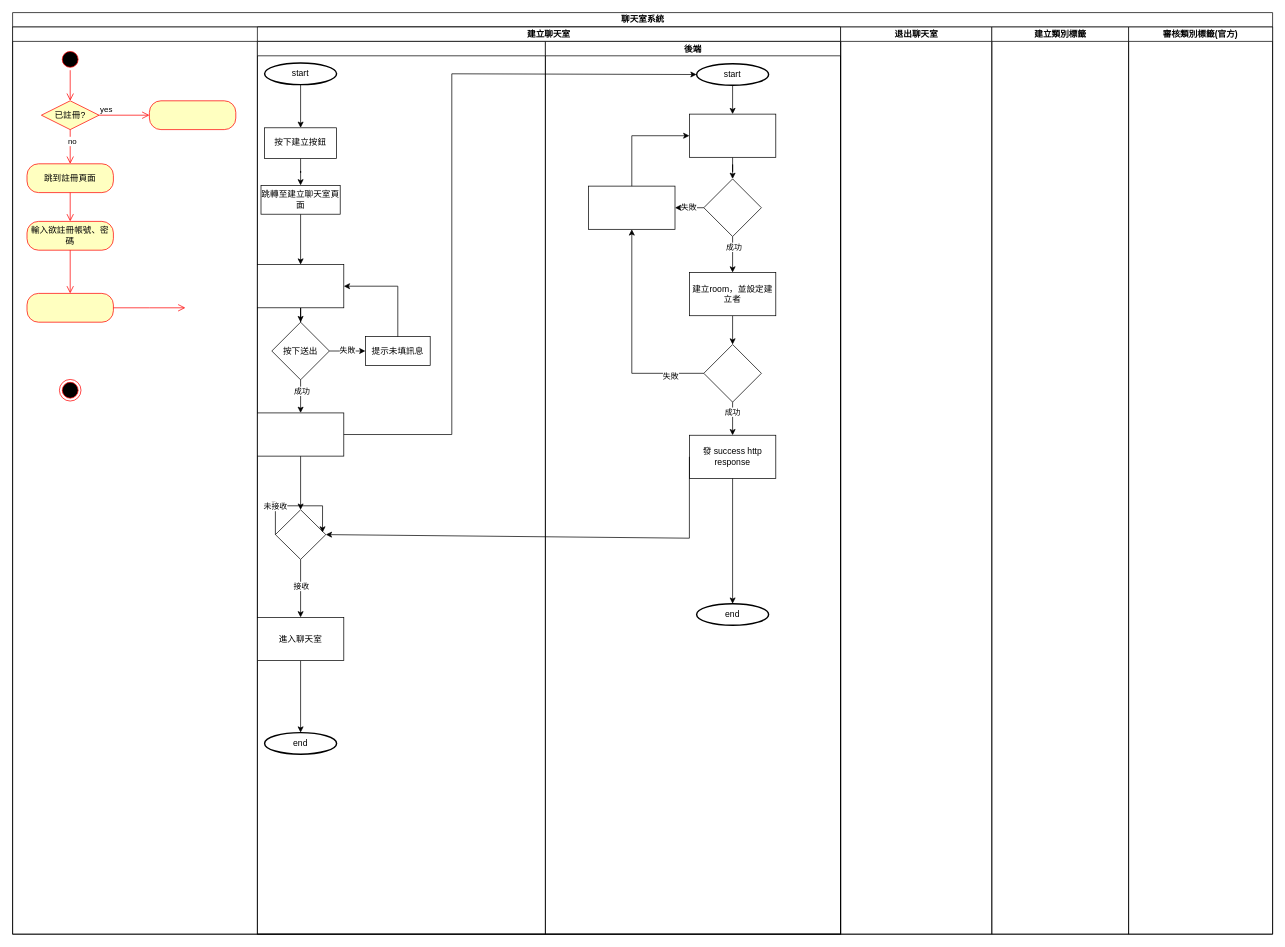
Image size: 1285x947. Some labels were removed from this diagram. The shapes that lost their labels are listed below. From the top down, each one's box as (x1, y1, x2, y2) in pixels, then its label:
(149, 100, 236, 130): 跳到登入頁面
(689, 113, 776, 157): server端等待http post
(588, 185, 675, 229): 發 error http response
(703, 178, 761, 237): 解析
(257, 264, 344, 308): 輸入聊天室名稱、選擇標籤
(26, 293, 113, 322): 驗證帳號
(703, 344, 761, 402): 建立
(257, 412, 344, 456): 建立訊息送至server
(257, 41, 545, 934): 前端
(275, 509, 326, 559): 等待訊息
